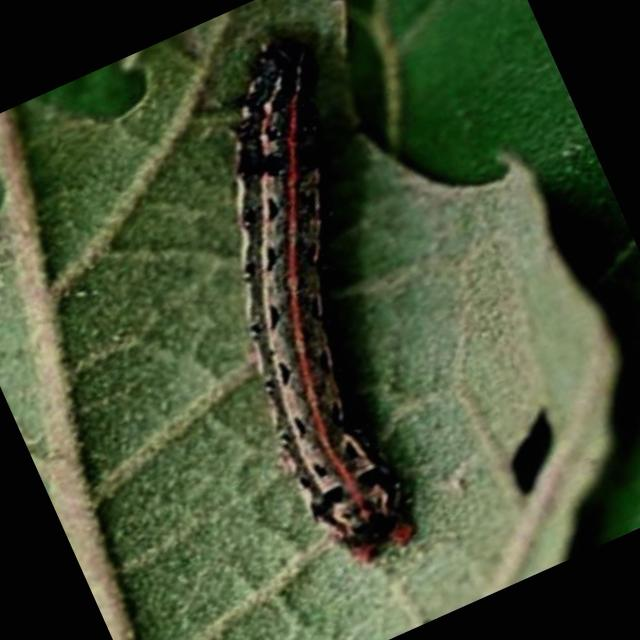Tobacco cutworm: (72, 0, 569, 639)
